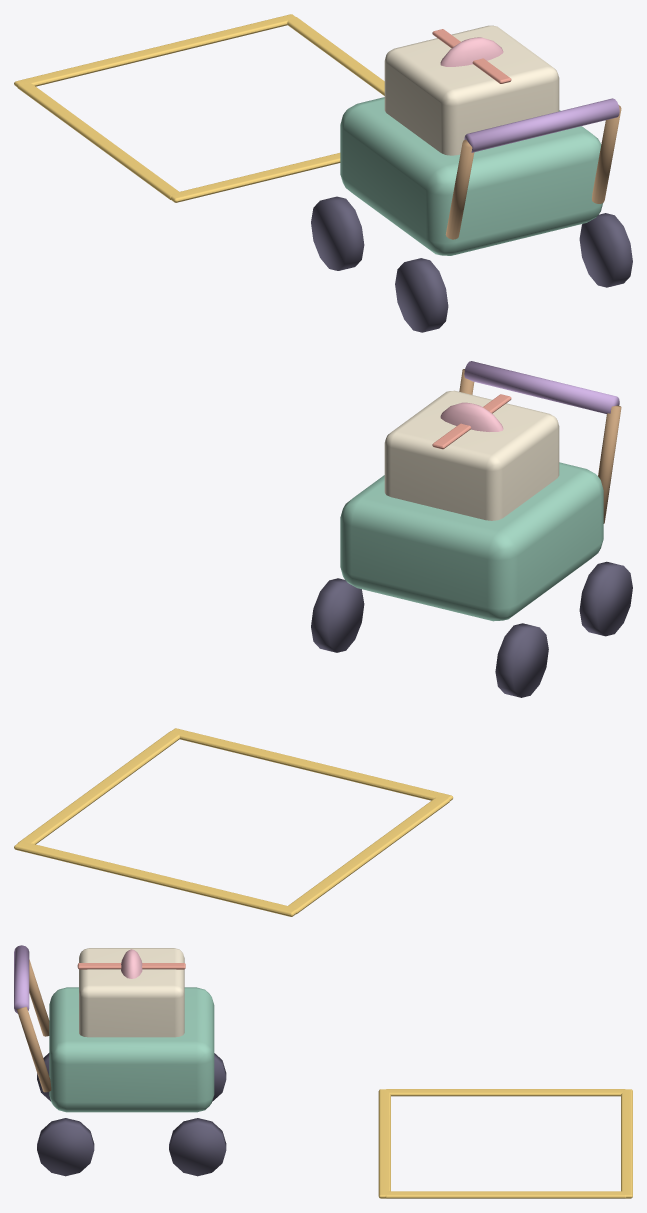
Rendered from play-cart.glb.
3 views of the same model, one above another, from view 1: azimuth 30°, elevation 25°; view 2: azimuth 150°, elevation 25°; view 3: azimuth 270°, elevation 25° (orthographic). The views are drawn at different scales.
Parts seen in each view (by area): view 1: Cart surfaces, Scenery surfaces, Surprise star; view 2: Cart surfaces, Scenery surfaces, Surprise star; view 3: Cart surfaces, Scenery surfaces, Surprise star.
Boxes of the visible parts, left/top/right/bottom form: Cart surfaces: left=311, top=25, right=632, bottom=332; Scenery surfaces: left=14, top=14, right=384, bottom=202; Surprise star: left=440, top=37, right=503, bottom=66; Cart surfaces: left=311, top=361, right=632, bottom=697; Scenery surfaces: left=14, top=728, right=453, bottom=916; Surprise star: left=440, top=402, right=503, bottom=431; Cart surfaces: left=14, top=945, right=226, bottom=1176; Scenery surfaces: left=378, top=1089, right=632, bottom=1198; Surprise star: left=121, top=949, right=142, bottom=978.
Bounding box in the file's own units: 1.15 × 0.97 × 2.81.
